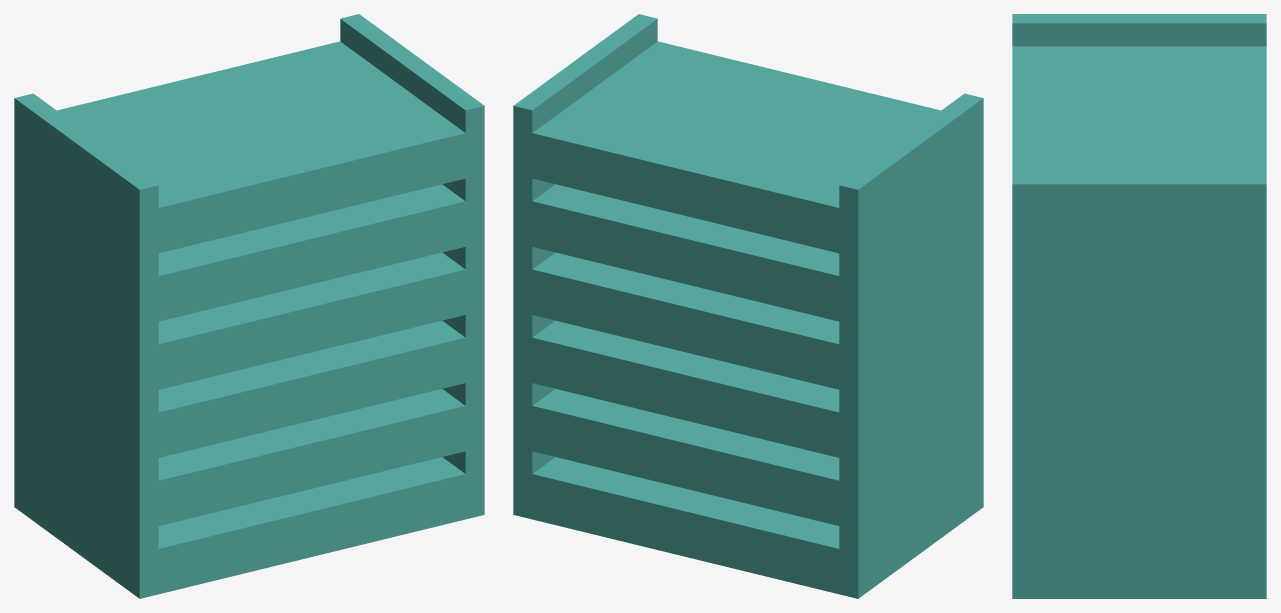
File: supermarket-operations-basket-stack-0006c20d__26774.glb
The picture shows the model from 3 angles, left to right: view 1: azimuth 30°, elevation 25°; view 2: azimuth 150°, elevation 25°; view 3: azimuth 270°, elevation 25°; orthographic projection.
Parts seen in each view (by area): view 1: basket-stack; view 2: basket-stack; view 3: basket-stack.
Boxes of the visible parts, box(x1,y1,x2,y2) form: basket-stack: box(14, 14, 484, 598); basket-stack: box(513, 14, 983, 598); basket-stack: box(1012, 14, 1266, 598).
Size of the model in its own units: 0.635 by 0.72 by 0.4.
